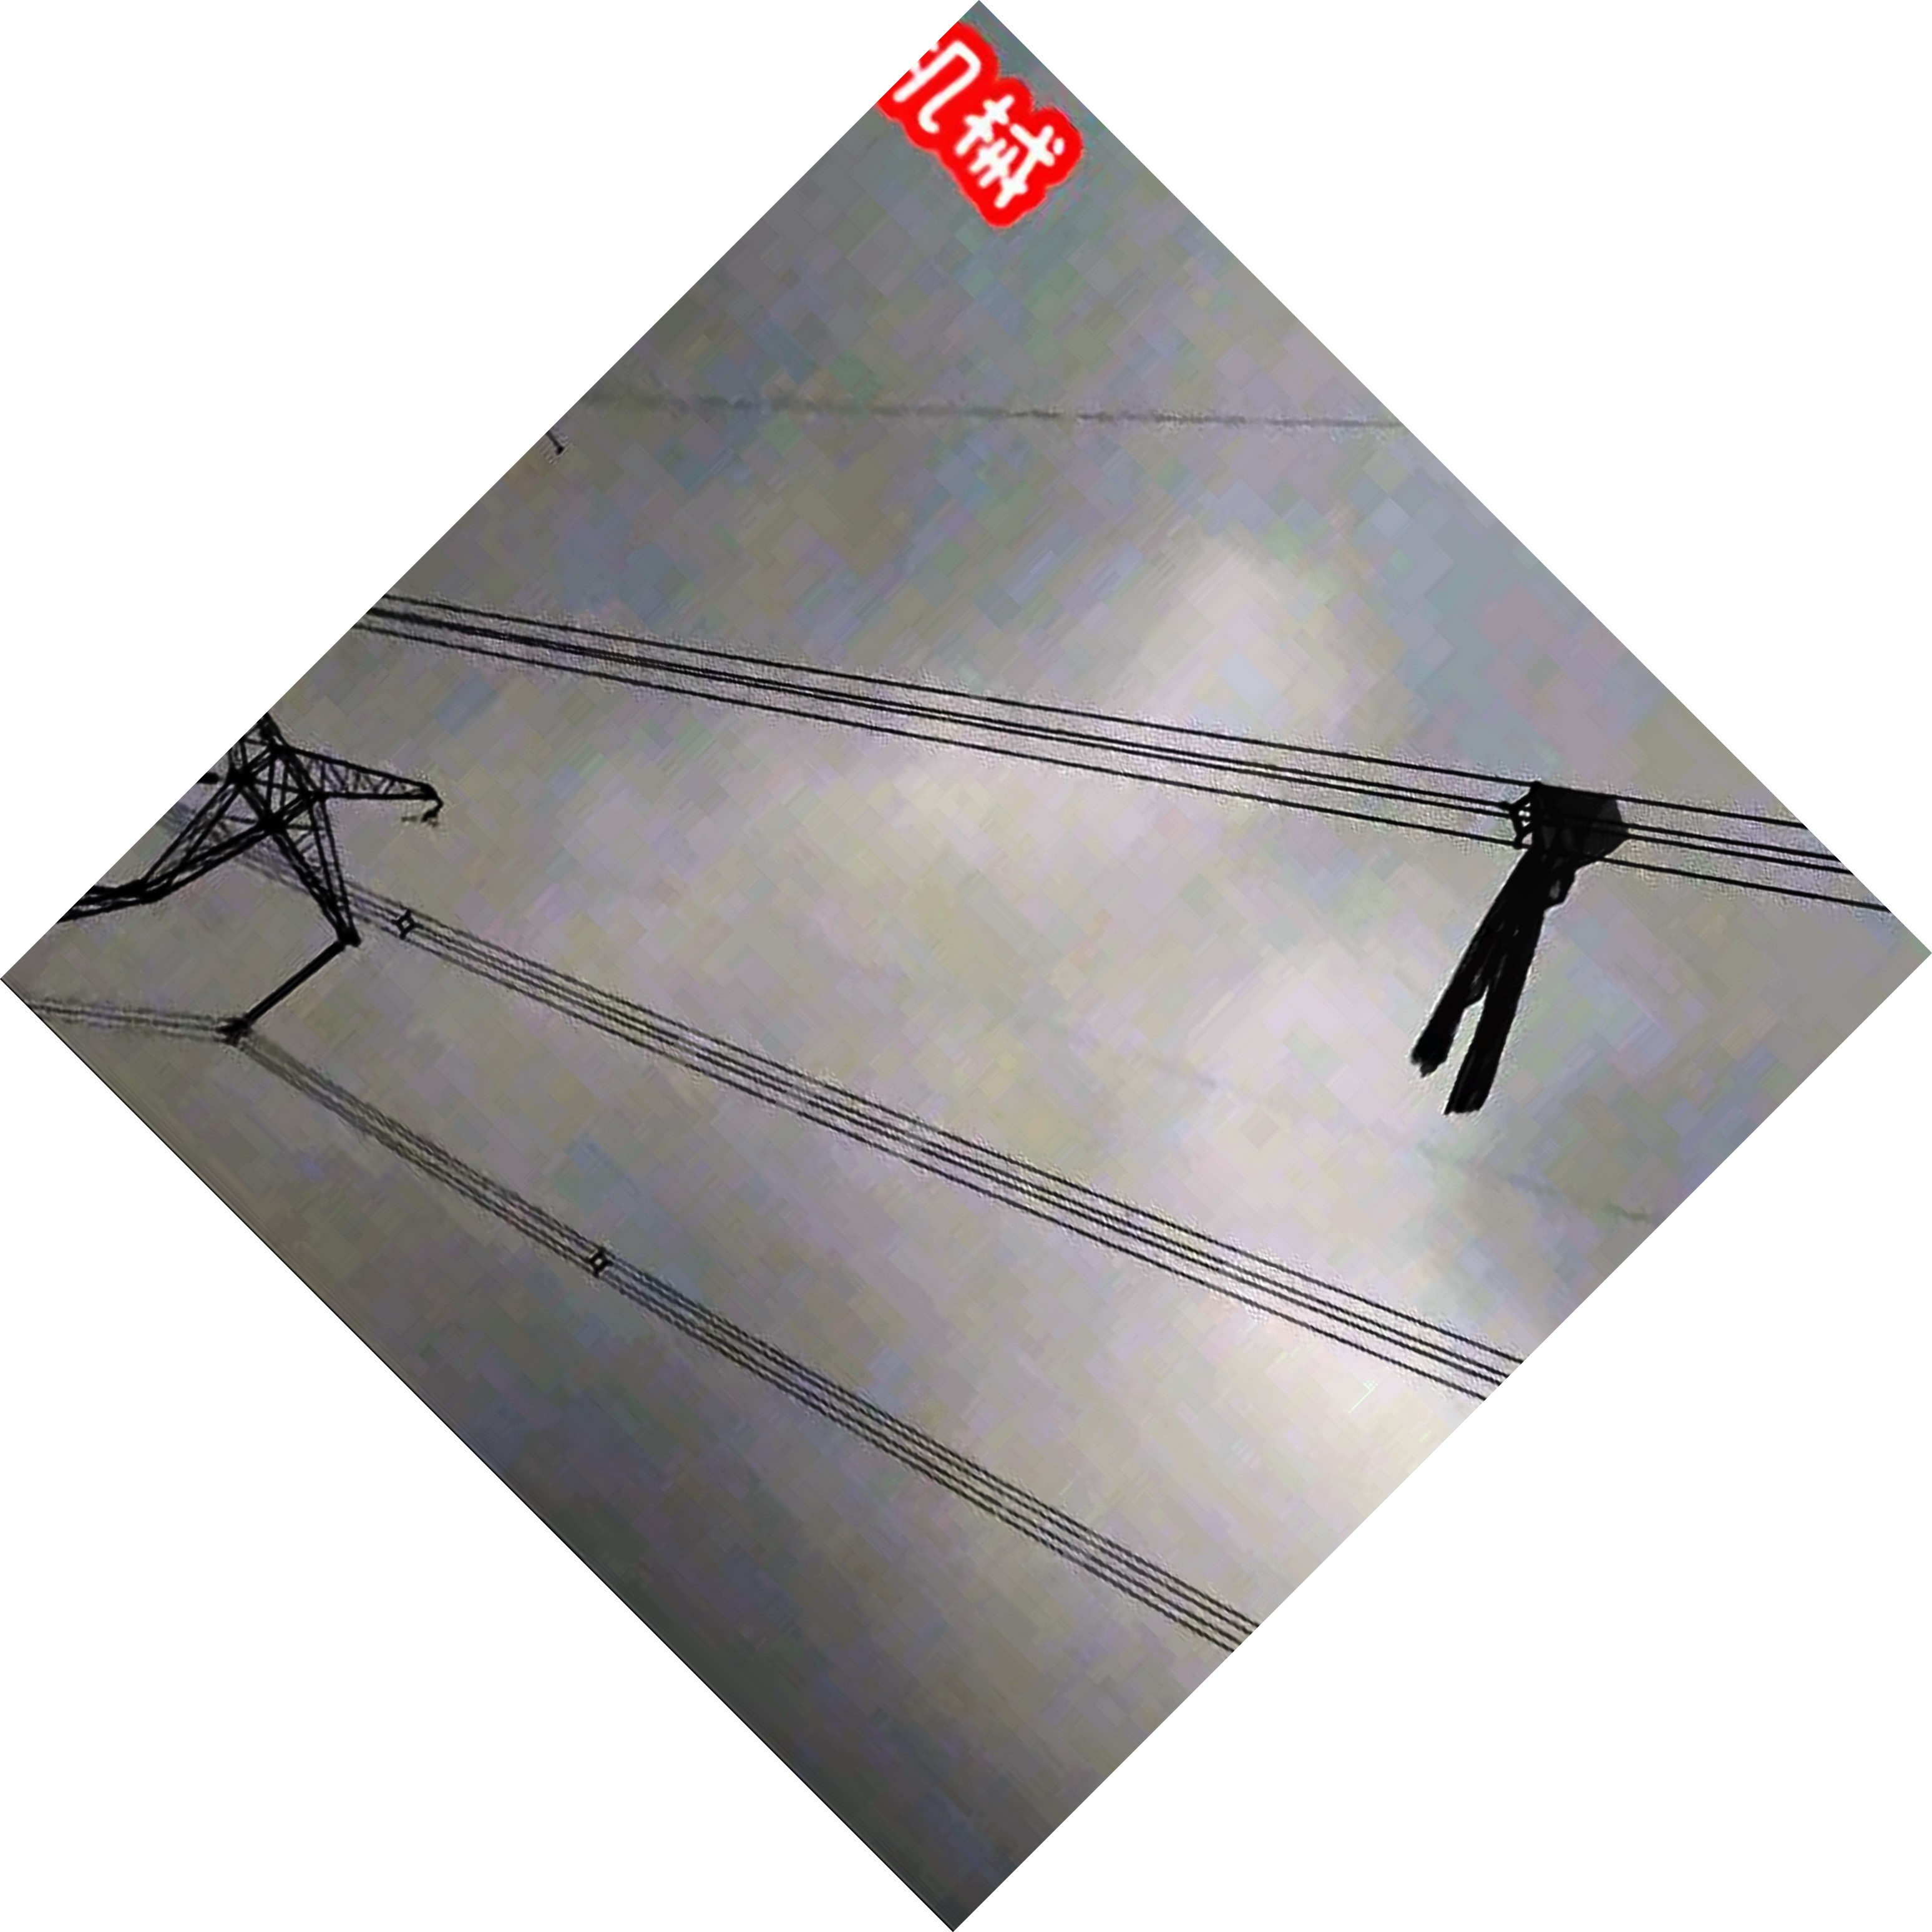wire foreign body: (1405, 750, 1621, 1116)
